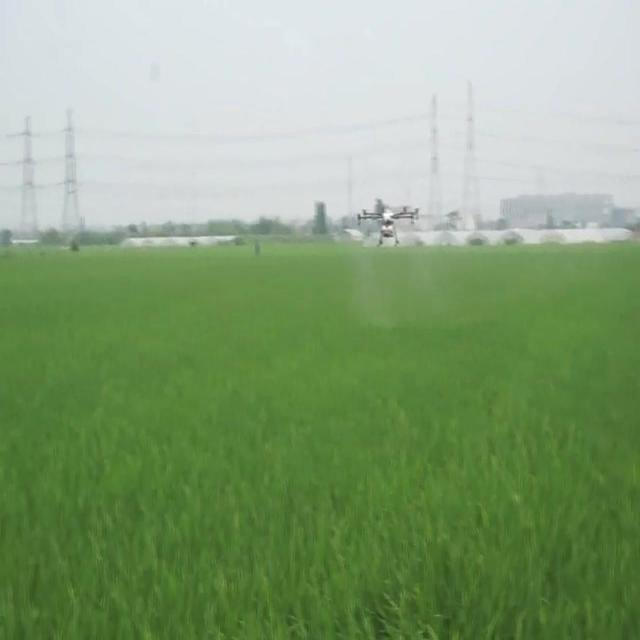UAV: (357, 206, 419, 248)
